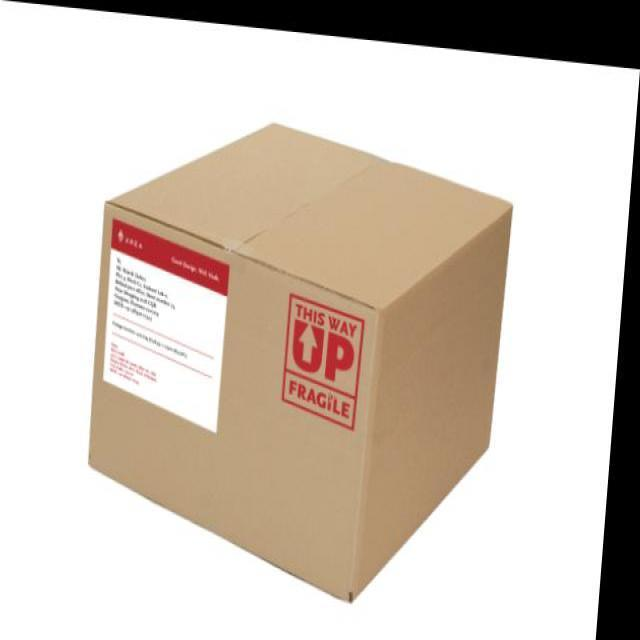box: (77, 112, 516, 604)
